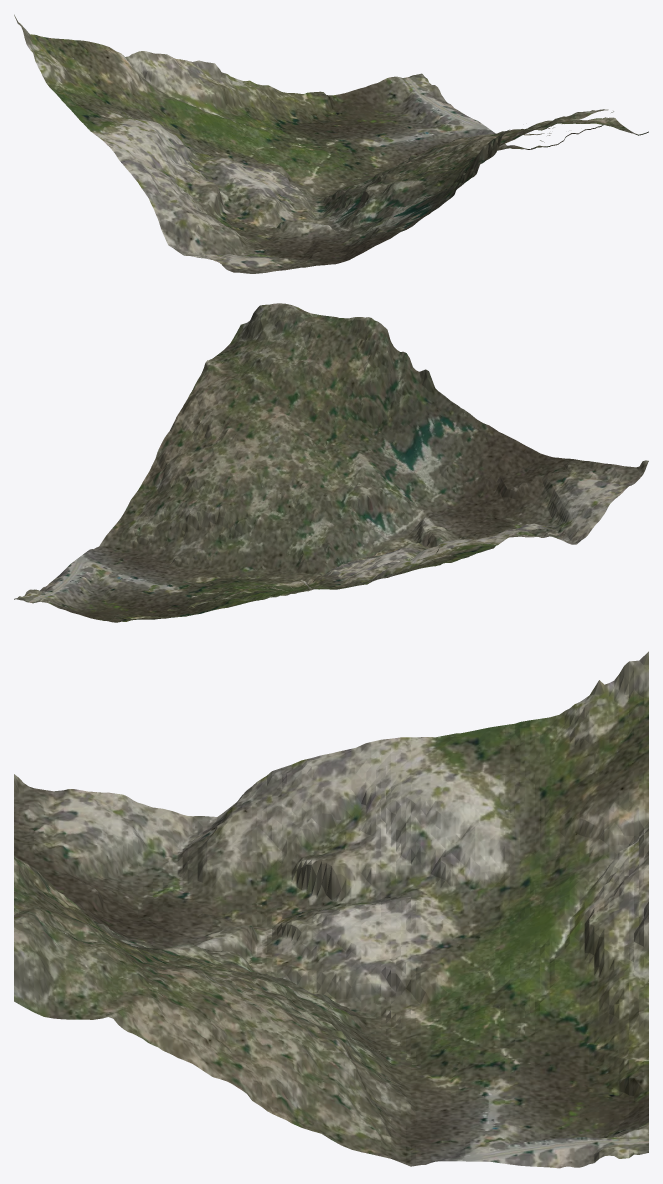
3 renders of one model, top to bottom at view 1: azimuth 30°, elevation 25°; view 2: azimuth 150°, elevation 25°; view 3: azimuth 270°, elevation 25°, orthographic. The views are drawn at different scales.
Bounding box in the file's own units: 500 × 200 × 481.
Materials: 1 (1 with a texture image).
